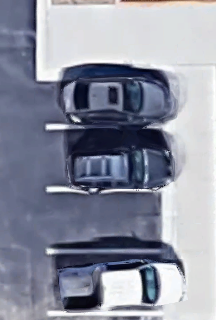Occupied: (45, 127, 169, 190), (45, 252, 169, 314), (45, 77, 169, 127)
Vacant: (46, 190, 169, 251)
